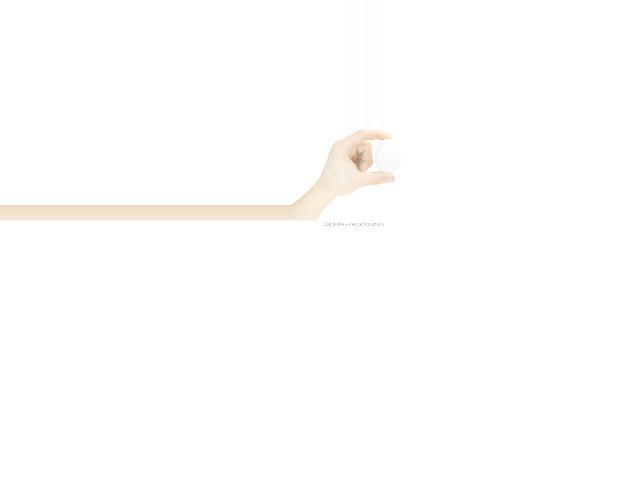egg: (374, 139, 399, 174)
